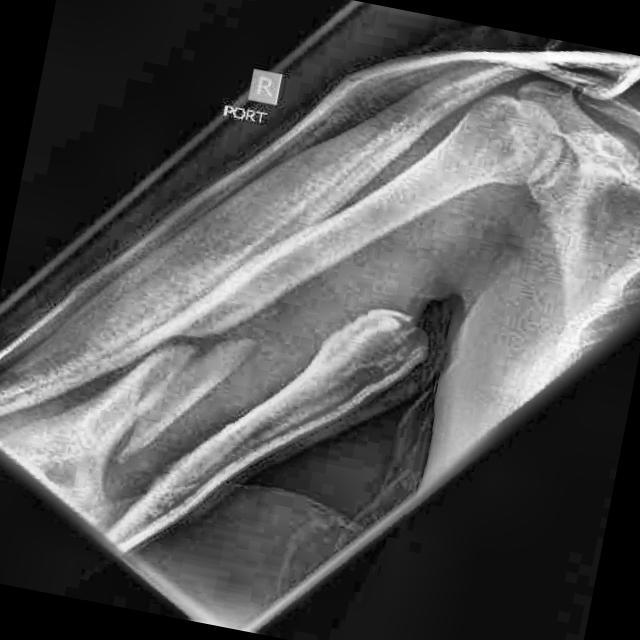humerus: (57, 306, 296, 483)
